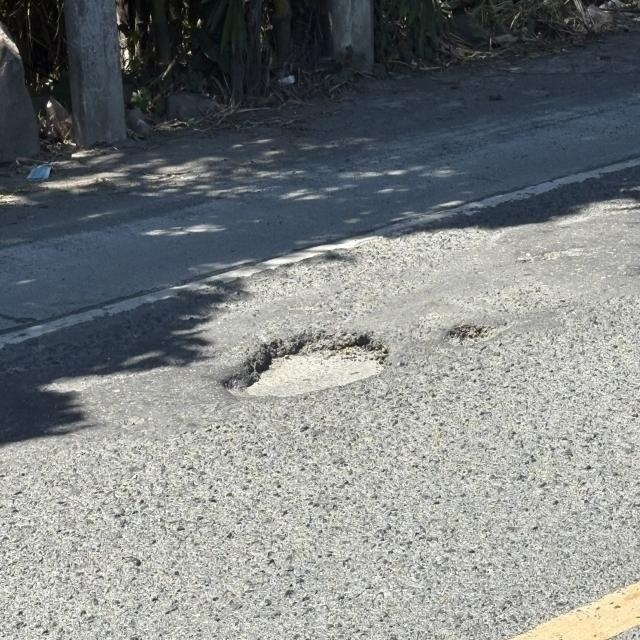pothole: (218, 286, 424, 419), (426, 290, 518, 374)
